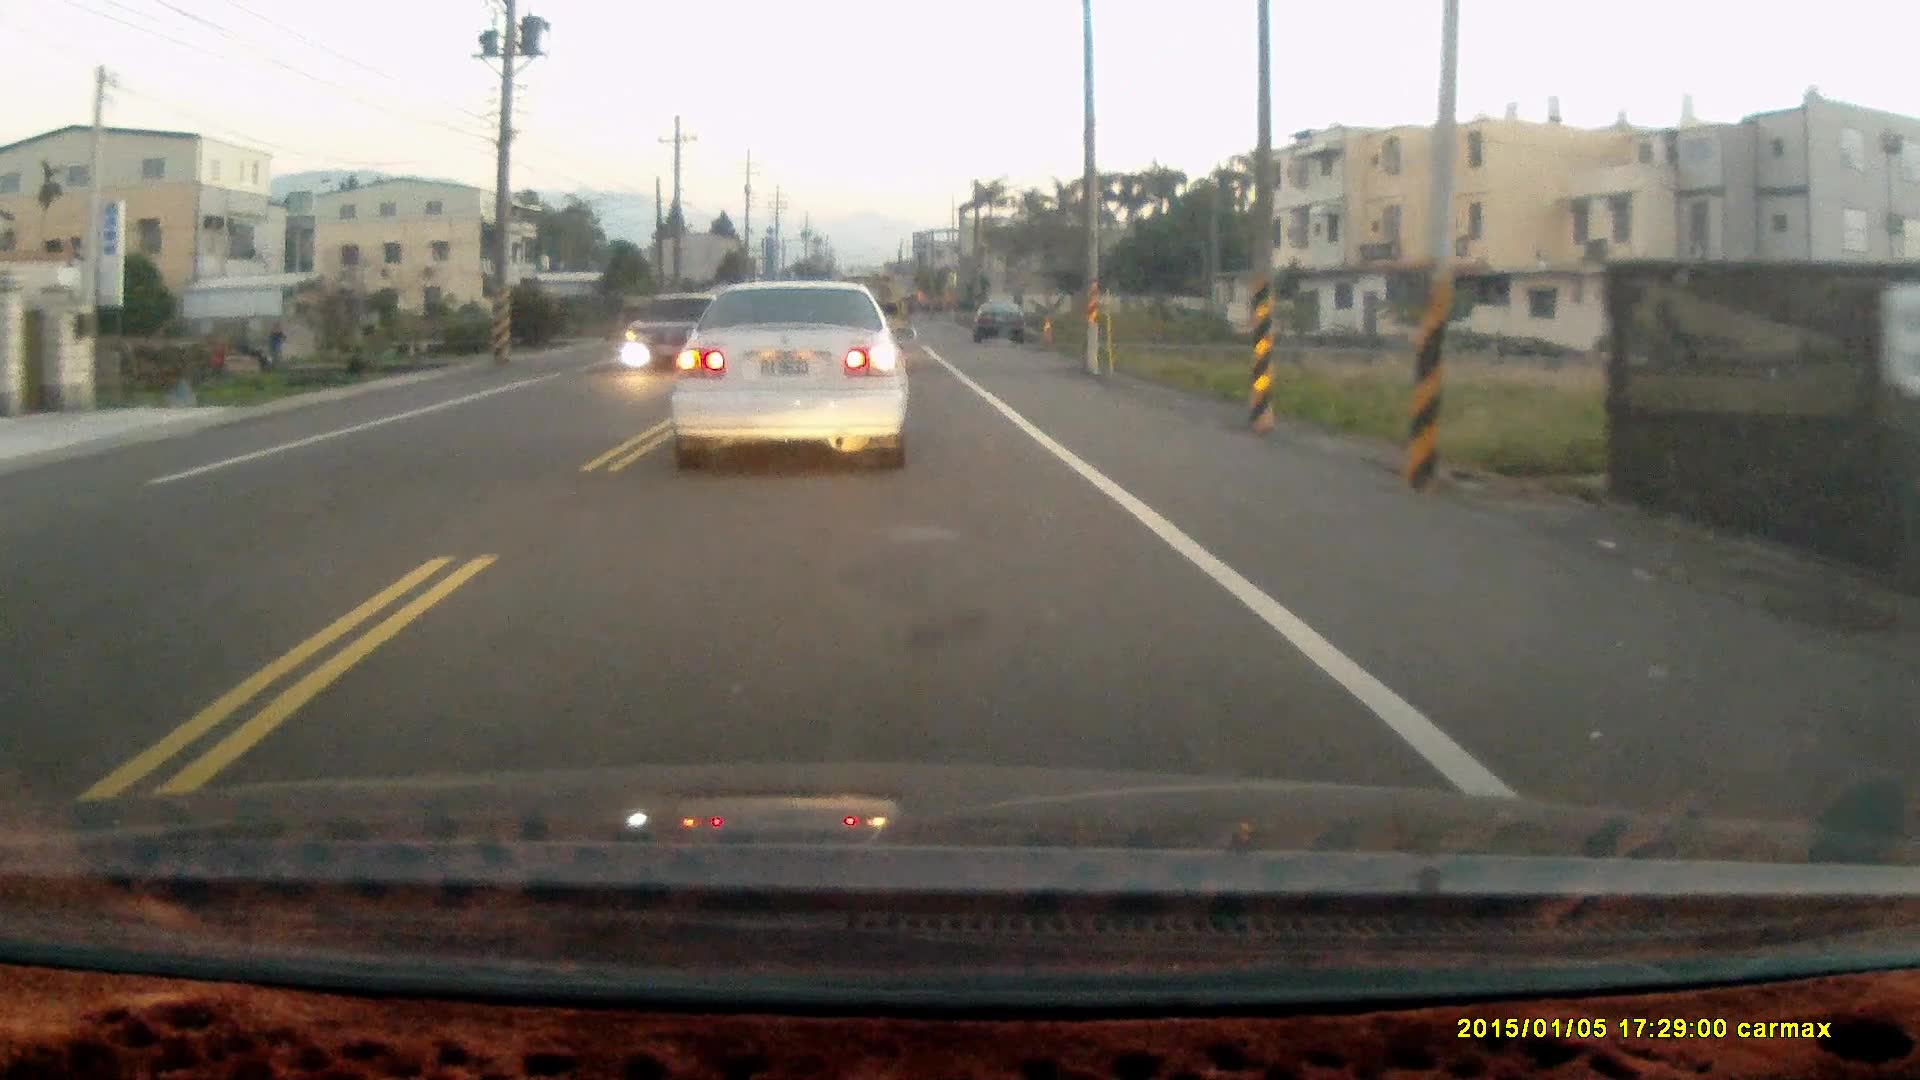pedestrian: (206, 340, 228, 385), (265, 319, 285, 368)
vehicle: (671, 279, 913, 471), (624, 290, 711, 379), (973, 301, 1035, 346)
